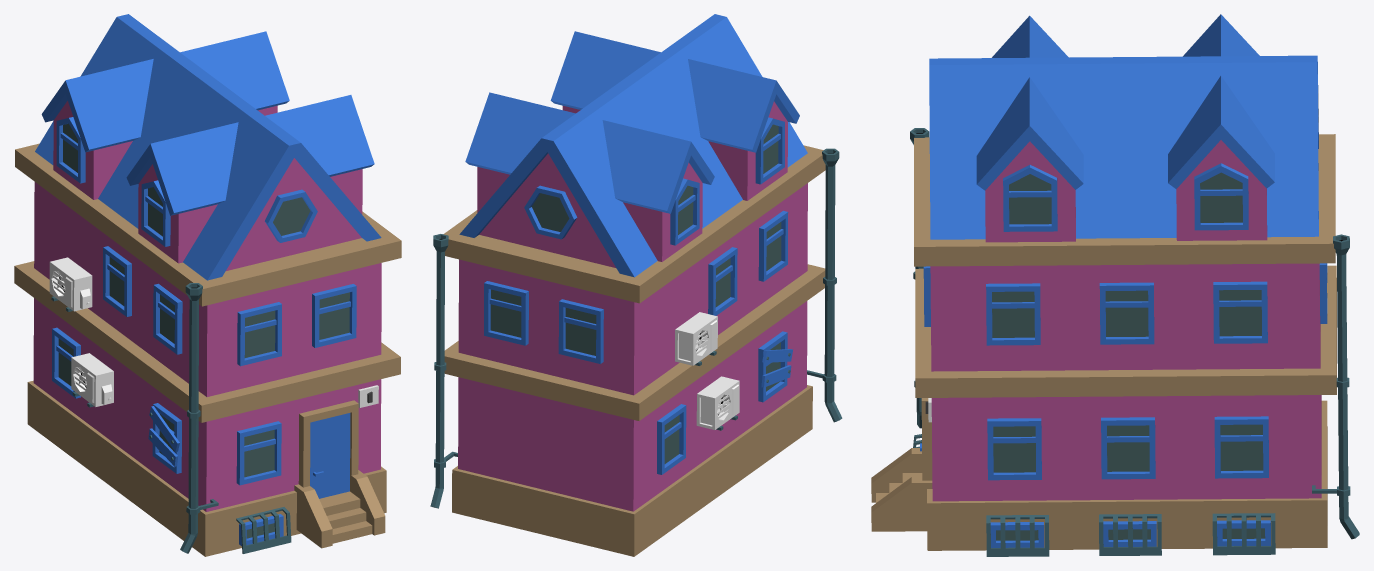
Rendered from Tutorial_pinkhouse.fbx.
The picture shows the model from 3 angles, left to right: view 1: azimuth 30°, elevation 25°; view 2: azimuth 150°, elevation 25°; view 3: azimuth 270°, elevation 25°; orthographic projection. The views are drawn at different scales.
Visible parts, largest first — view 1: Box15824, Box15824.001; view 2: Box15824, Box15824.001; view 3: Box15824, Box15824.001.
Boxes of the visible parts, x1,y1,x2,y2 form: Box15824: [14, 17, 401, 556]; Box15824.001: [51, 14, 378, 535]; Box15824: [430, 17, 842, 556]; Box15824.001: [542, 14, 795, 413]; Box15824: [871, 14, 1359, 556]; Box15824.001: [914, 16, 1317, 436].
Size of the model in its own units: 531 by 903 by 903.
